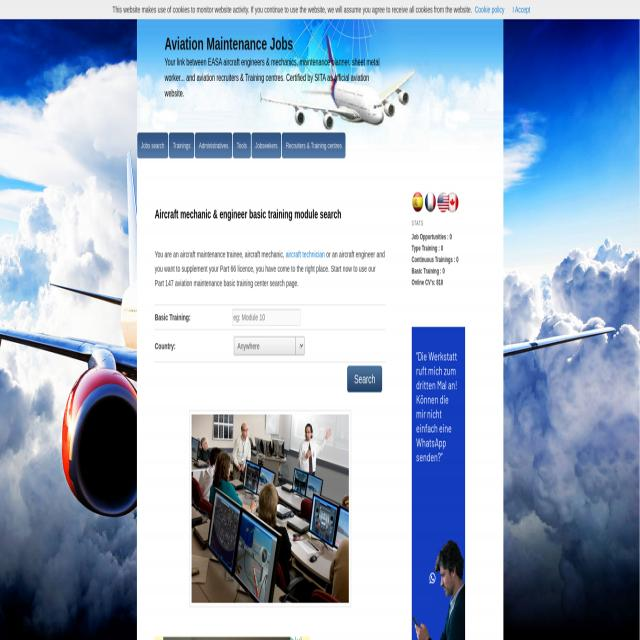button: (189, 412, 351, 608), (412, 326, 465, 640), (282, 132, 346, 158), (195, 132, 233, 158), (348, 366, 382, 392), (137, 132, 168, 158), (252, 132, 282, 158), (169, 132, 194, 158), (233, 132, 251, 158), (437, 192, 459, 212), (424, 191, 436, 212), (412, 191, 423, 212)
field: (234, 336, 304, 355), (232, 309, 301, 326)
